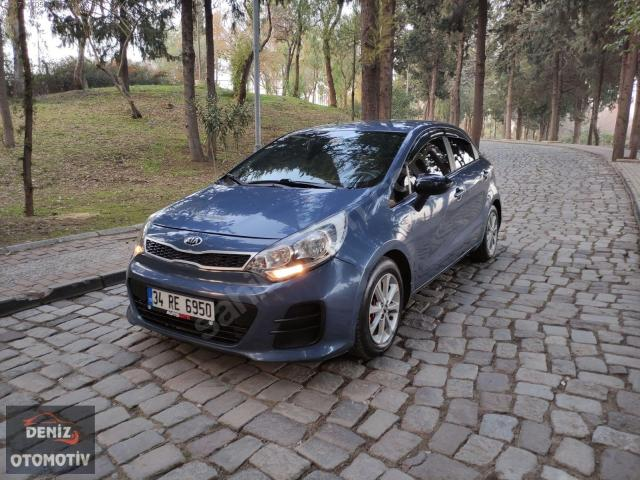plaka: (149, 288, 214, 325)
